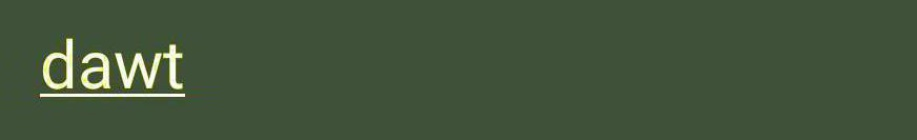EditText: (1, 1, 916, 139)
